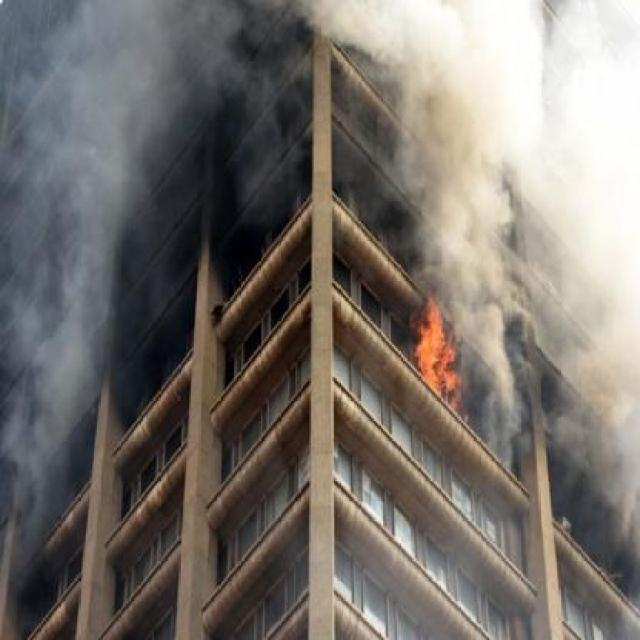Fire: (412, 296, 462, 408)
Smoke: (541, 44, 640, 530), (1, 0, 79, 490), (407, 5, 515, 298), (163, 0, 294, 214), (83, 0, 162, 354), (468, 308, 524, 450), (309, 0, 401, 52)
